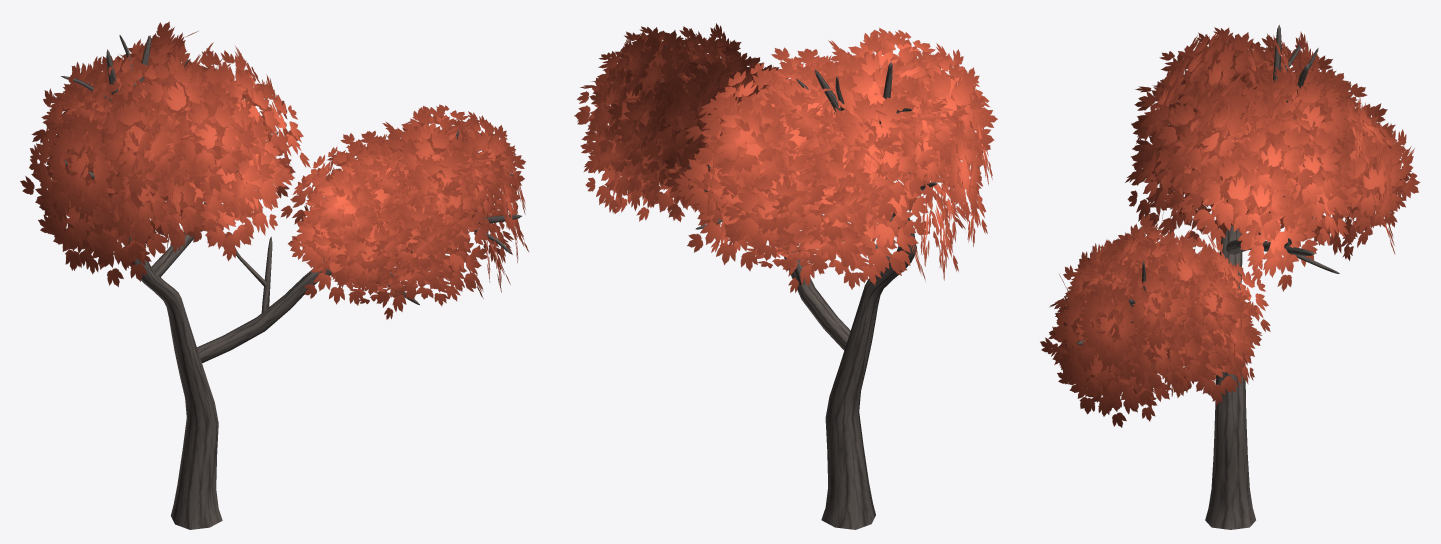
The model's file is MapleTree_1.glb.
3 views of the same model, side by side, from view 1: azimuth 30°, elevation 25°; view 2: azimuth 150°, elevation 25°; view 3: azimuth 270°, elevation 25° (orthographic). The views are drawn at different scales.
Parts seen in each view (by area): view 1: MapleTree_1; view 2: MapleTree_1; view 3: MapleTree_1.
Boxes of the visible parts, box(x1,y1,x2,y2) form: MapleTree_1: box(20, 21, 528, 529); MapleTree_1: box(574, 23, 997, 529); MapleTree_1: box(1040, 25, 1420, 529).
Bounding box in the file's own units: 6.23 × 6.64 × 4.9.
Materials: 2 (2 with a texture image).
